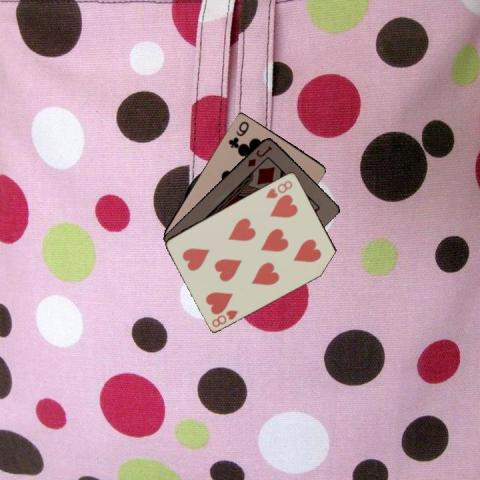8h: (209, 306, 240, 329), (263, 178, 294, 199)
9c: (225, 118, 251, 149)
Jd: (244, 142, 273, 168)
